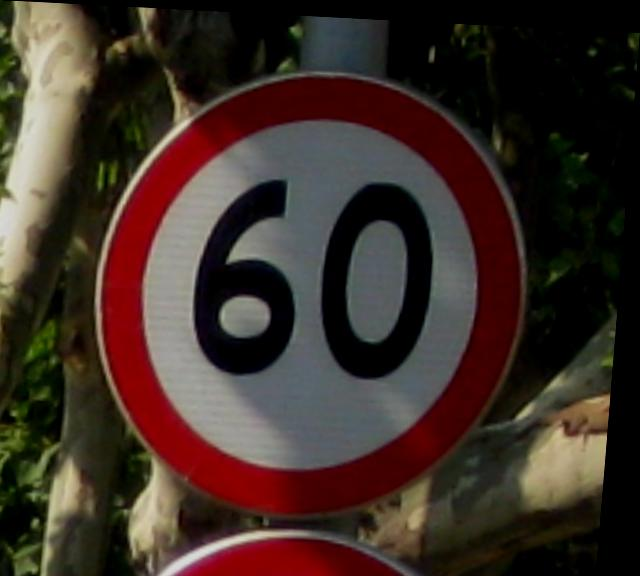limit60: (78, 50, 557, 532)
